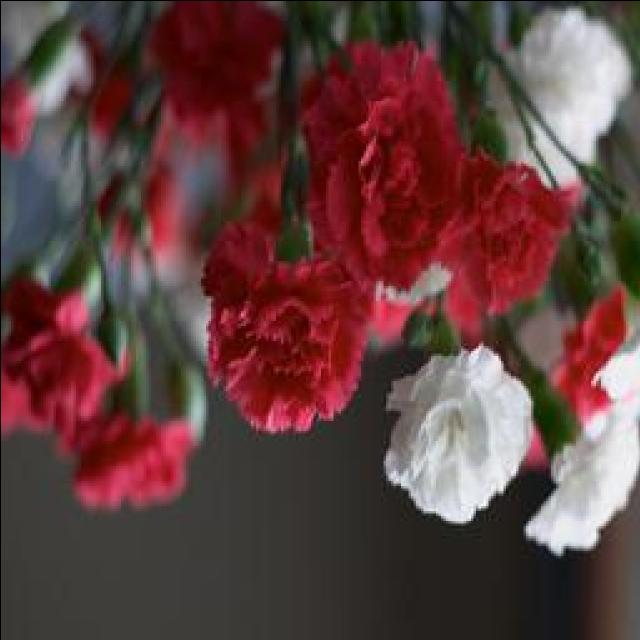carnation: (246, 52, 469, 292), (368, 332, 538, 528)
